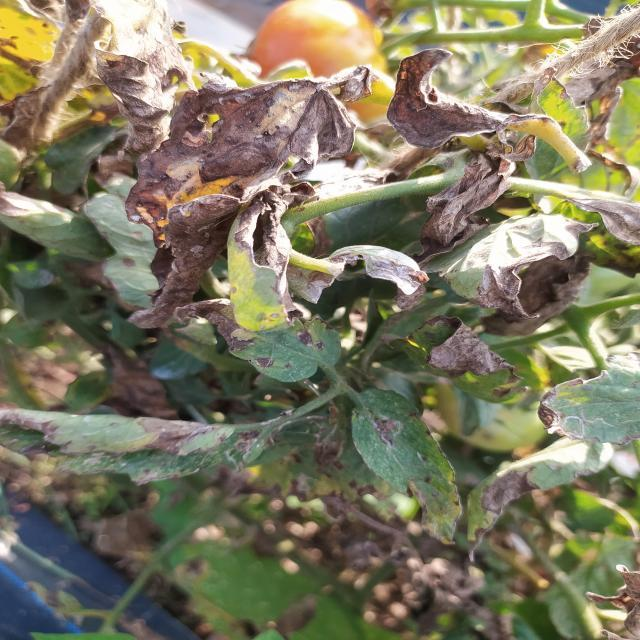Tomato mosaic virus leaf: (117, 76, 356, 330), (173, 296, 341, 388)
